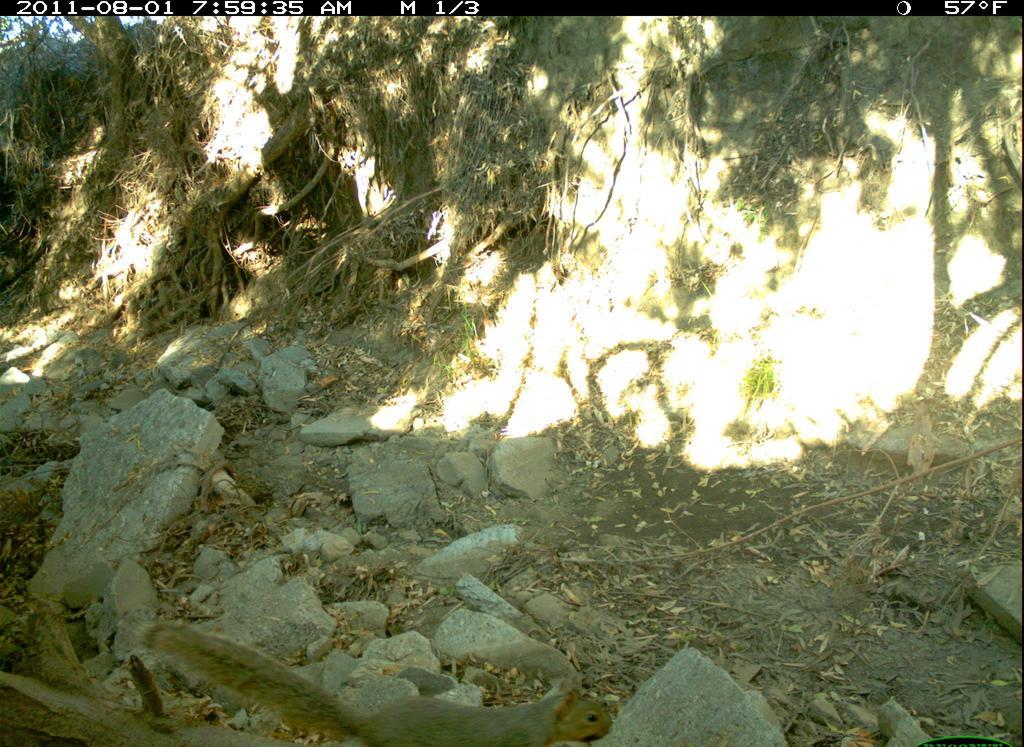squirrel: (139, 616, 614, 747)
